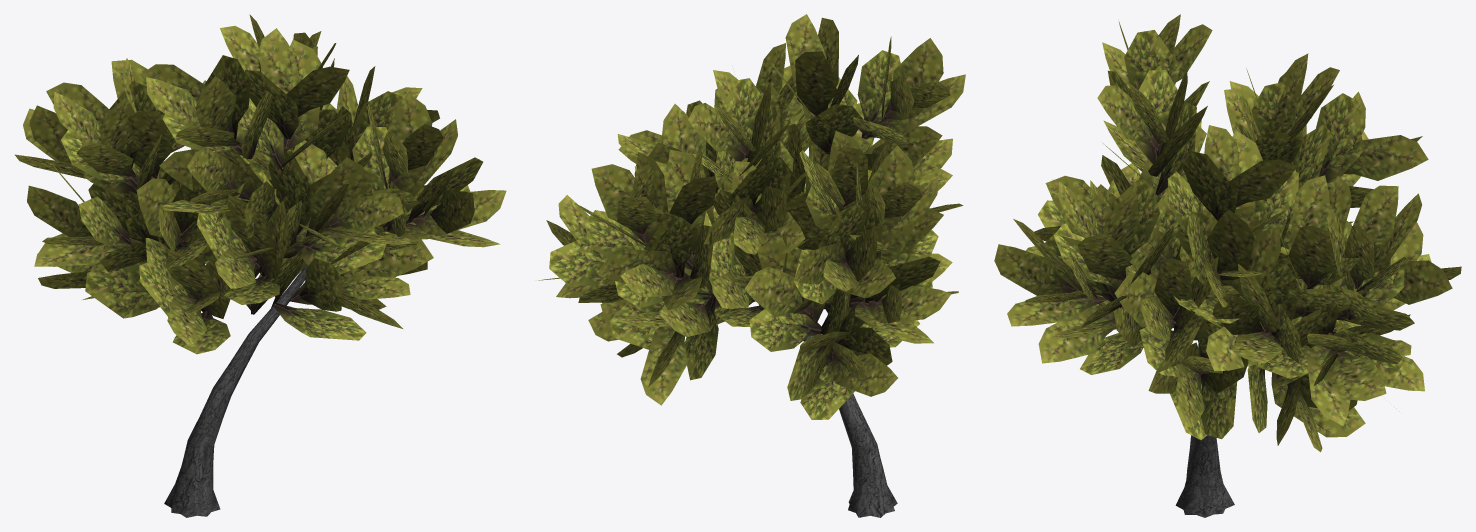
File: arbol_1.obj
The picture shows the model from 3 angles, left to right: view 1: azimuth 30°, elevation 25°; view 2: azimuth 150°, elevation 25°; view 3: azimuth 270°, elevation 25°; orthographic projection. The views are drawn at different scales.
Parts seen in each view (by area): view 1: Spline_Branch_E001; view 2: Spline_Branch_E001; view 3: Spline_Branch_E001.
Part boxes in pixels (left/top/right/bottom): Spline_Branch_E001: left=15, top=14, right=506, bottom=517; Spline_Branch_E001: left=538, top=14, right=965, bottom=517; Spline_Branch_E001: left=994, top=14, right=1461, bottom=517.
Size of the model in its own units: 979 by 1102 by 973.
2 materials, 2 textured.
